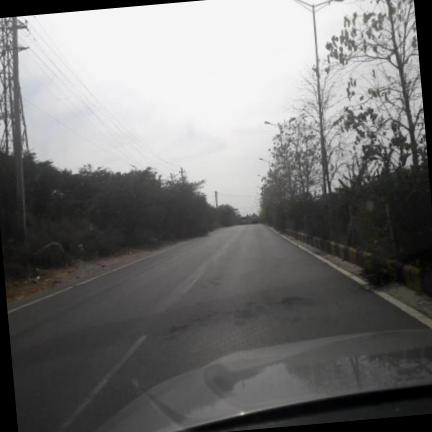Road: (8, 225, 423, 431)
